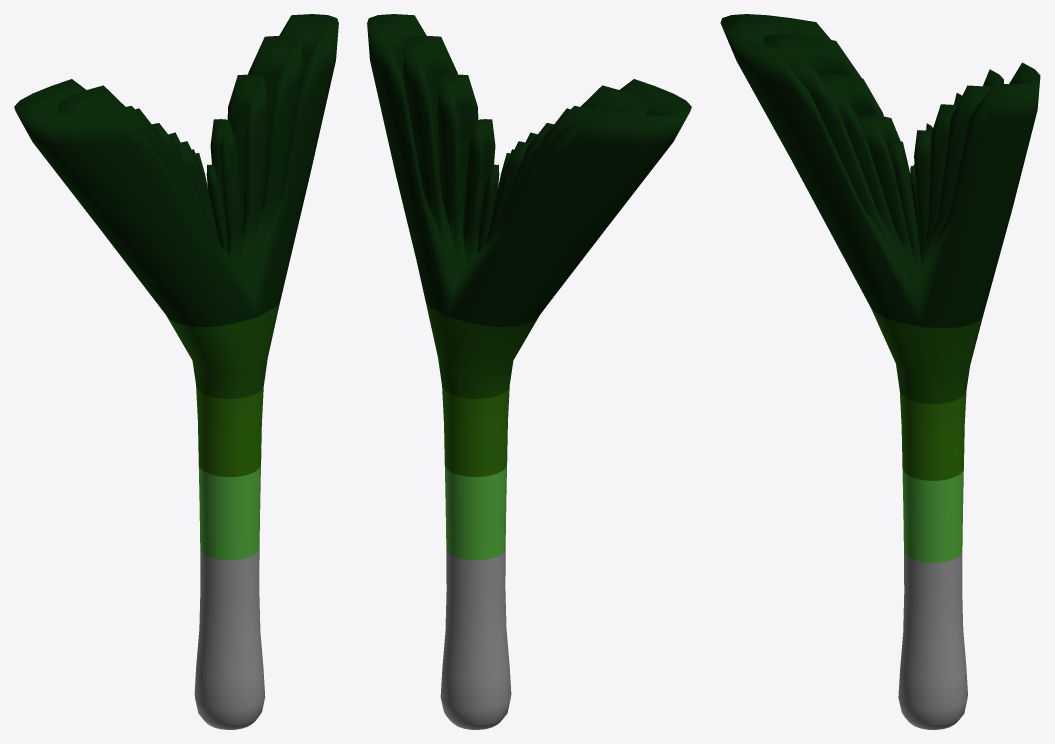
The model's file is Leek.FBX.
3 views of the same model, side by side, from view 1: azimuth 30°, elevation 25°; view 2: azimuth 150°, elevation 25°; view 3: azimuth 330°, elevation 25° (orthographic).
Visible parts, largest first — view 1: Cylinder002; view 2: Cylinder002; view 3: Cylinder002.
Boxes of the visible parts, <box> form: Cylinder002: <box>14,14,338,729</box>; Cylinder002: <box>367,14,691,729</box>; Cylinder002: <box>720,14,1040,729</box>.
Size of the model in its own units: 8.2 by 16.62 by 1.89.
